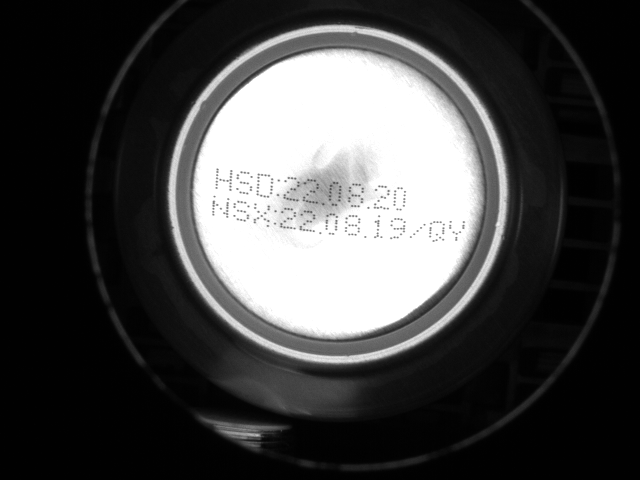/: (407, 220, 428, 243)
0: (322, 179, 347, 210), (318, 211, 343, 237), (393, 185, 412, 213)
1: (370, 216, 387, 243)
2: (366, 182, 391, 212), (302, 176, 326, 207), (280, 173, 303, 202), (276, 207, 298, 232), (300, 209, 318, 234)
8: (343, 214, 367, 239), (347, 181, 366, 208)
9: (389, 216, 408, 243)
D: (254, 172, 276, 198)
H: (213, 164, 234, 191)
N: (207, 195, 232, 221)
Q: (427, 221, 448, 245)
S: (232, 166, 255, 195), (231, 200, 251, 225)
X: (253, 203, 272, 228)
Y: (449, 218, 470, 243)
